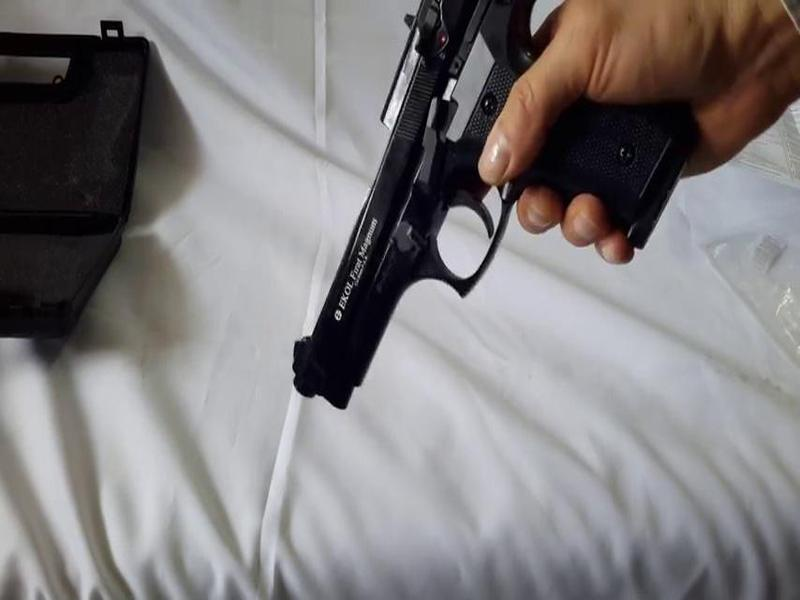Pistola: (272, 1, 697, 413)
